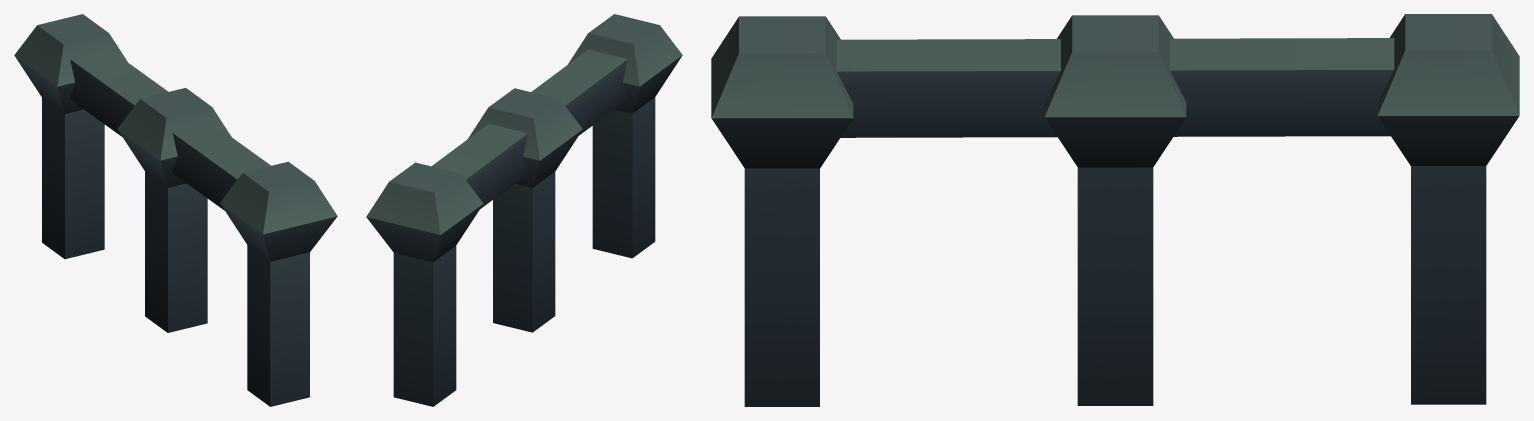
The model's file is handrail1_straight_LOD_setup.fbx.
3 renders of one model, left to right at view 1: azimuth 30°, elevation 25°; view 2: azimuth 150°, elevation 25°; view 3: azimuth 270°, elevation 25°, orthographic. The views are drawn at different scales.
Visible parts, largest first — view 1: handrail1_straight_LOD0; view 2: handrail1_straight_LOD0; view 3: handrail1_straight_LOD0.
Boxes of the visible parts, x1,y1,x2,y2 form: handrail1_straight_LOD0: (14,14,337,406); handrail1_straight_LOD0: (366,14,682,406); handrail1_straight_LOD0: (711,14,1519,406).
Size of what is drawn, in the model's own units: 22.13 by 59.05 by 121.
